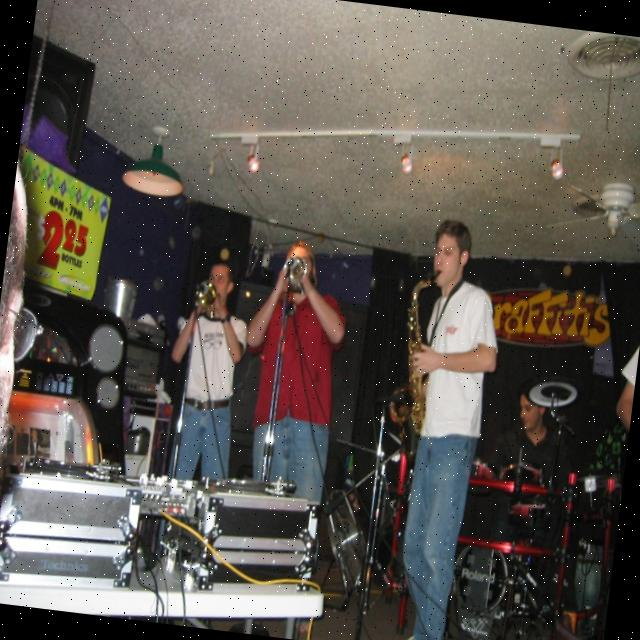drums: (346, 435, 624, 640)
saxophone: (392, 264, 446, 436)
